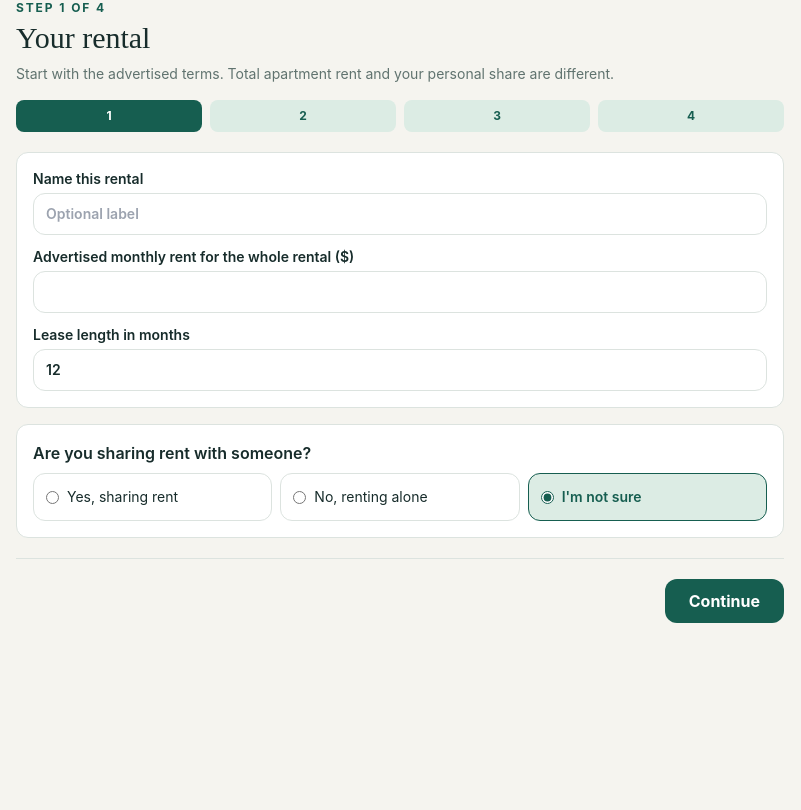
Scenario: Batch 9 guided flow › navigates backward with answers intact and hides conditional inputs
Expected: the text "Step 1 of 4" is shown, [16,0,106,15]
In the number field labelled "Advertised monthly rent for the whole rental ($)": (400, 292) [33,271,767,313], type "1600"
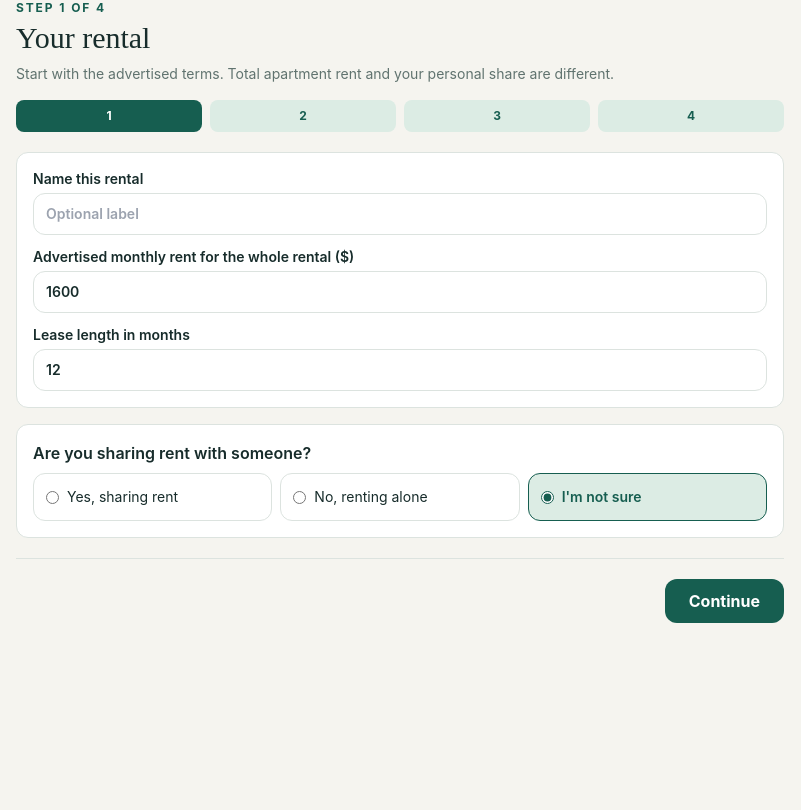
Click the radio button labelled "Yes, sharing rent": (52, 497) [46,490,59,504]
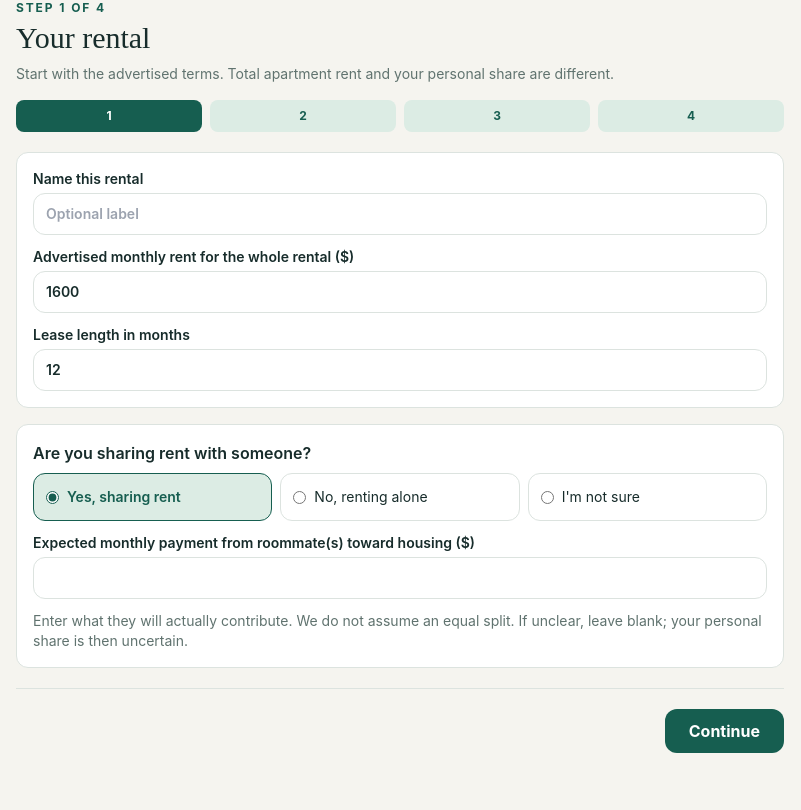
Expected: the number field labelled "Expected monthly payment from roommate(s) toward housing ($)" is shown
In the number field labelled "Expected monthly payment from roommate(s) toward housing ($)": (400, 578) [33,557,767,599], type "700"
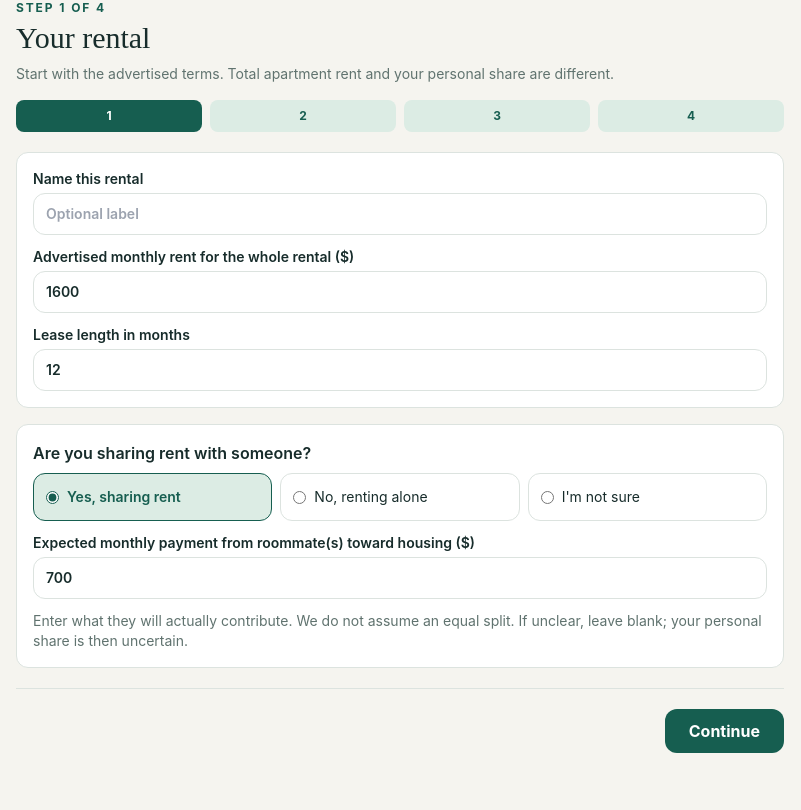
Click the radio button labelled "No, renting alone": (300, 497) [293,490,306,504]
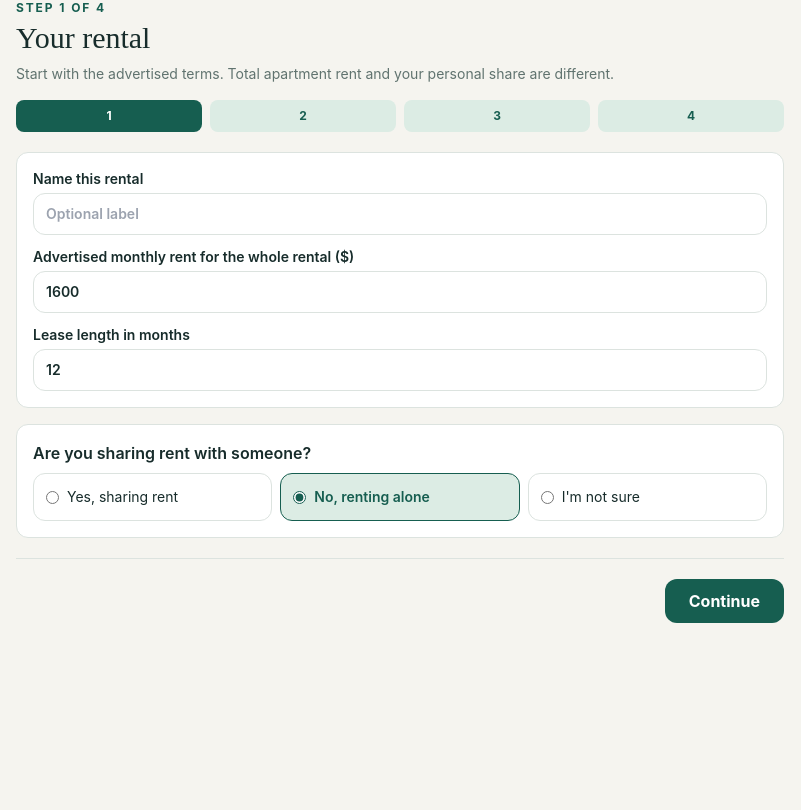
Expected: the label labelled "Expected monthly payment from roommate(s) toward housing ($)" is gone
Click the button "Continue": (724, 601) [665,579,784,623]
(page scrolled)
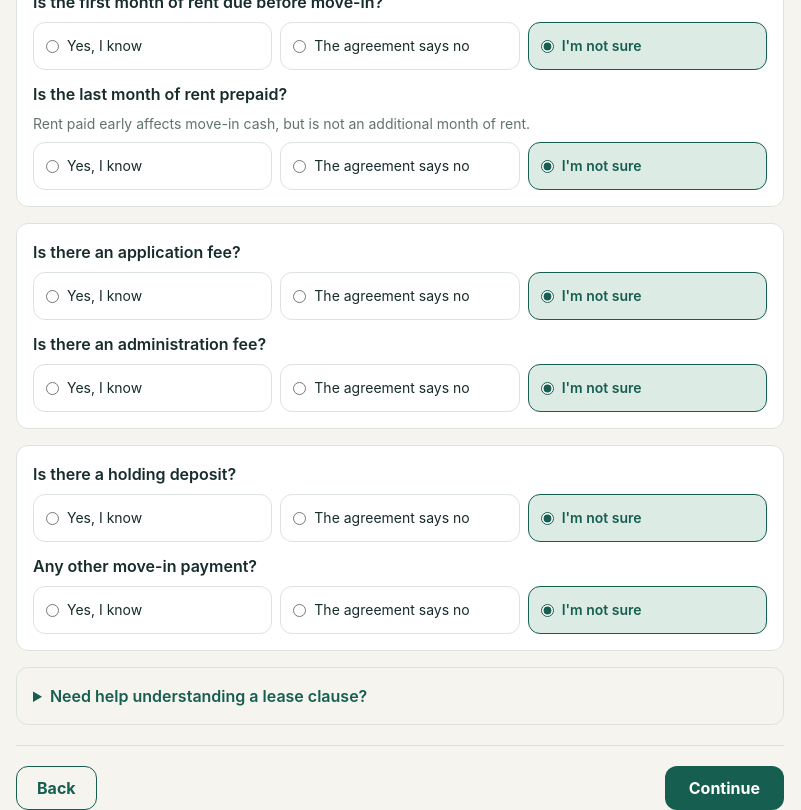
Click the button "Back": (56, 788) [16,766,97,809]
(page scrolled)
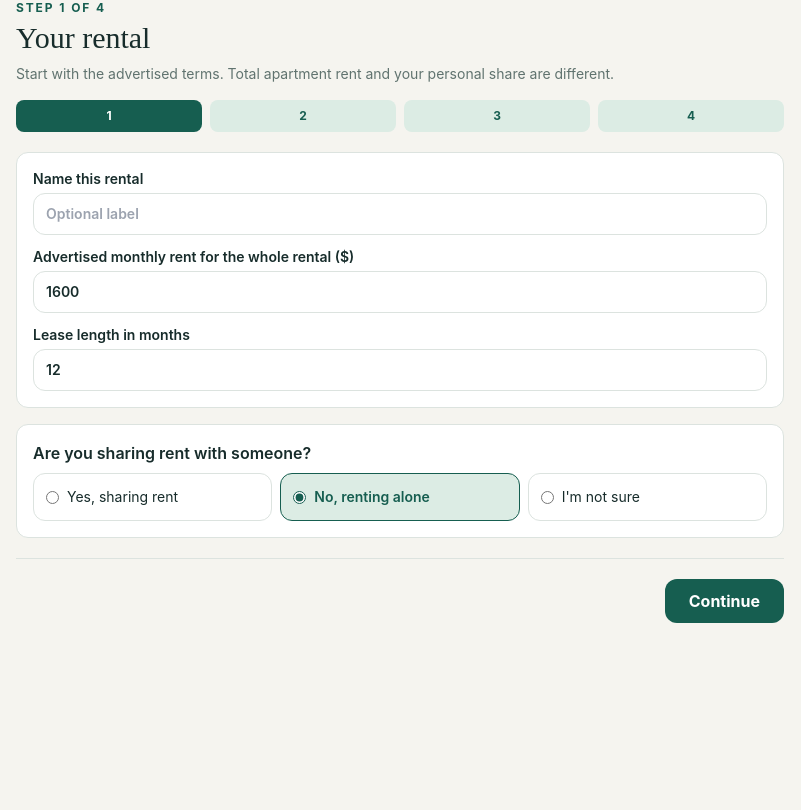
Expected: the label labelled "Expected monthly payment from roommate(s) toward housing ($)" is not shown
Expected: the number field labelled "Advertised monthly rent for the whole rental ($)" holds "1600", [33,271,767,313]
